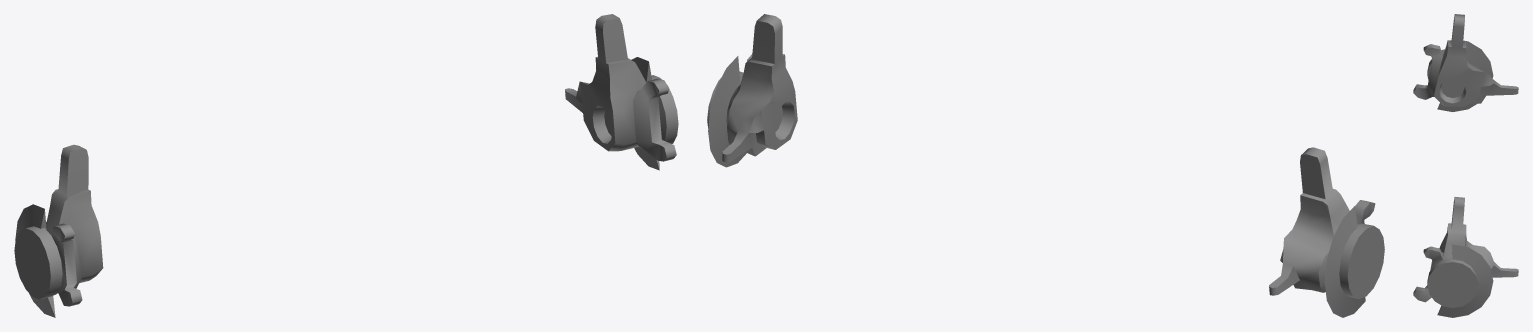
File: hubs.glb
3 renders of one model, left to right at view 1: azimuth 30°, elevation 25°; view 2: azimuth 150°, elevation 25°; view 3: azimuth 270°, elevation 25°, orthographic. The views are drawn at different scales.
Parts seen in each view (by area): view 1: lansdale_hub_F; view 2: lansdale_hub_F; view 3: lansdale_hub_F.
Boxes of the visible parts, x1=… form: lansdale_hub_F: x1=14, y1=14, x2=678, y2=317; lansdale_hub_F: x1=707, y1=14, x2=1384, y2=317; lansdale_hub_F: x1=1413, y1=14, x2=1518, y2=317.
Bounding box in the file's own units: 0.0411 × 0.00968 × 0.00853.
1 material, 1 textured.
